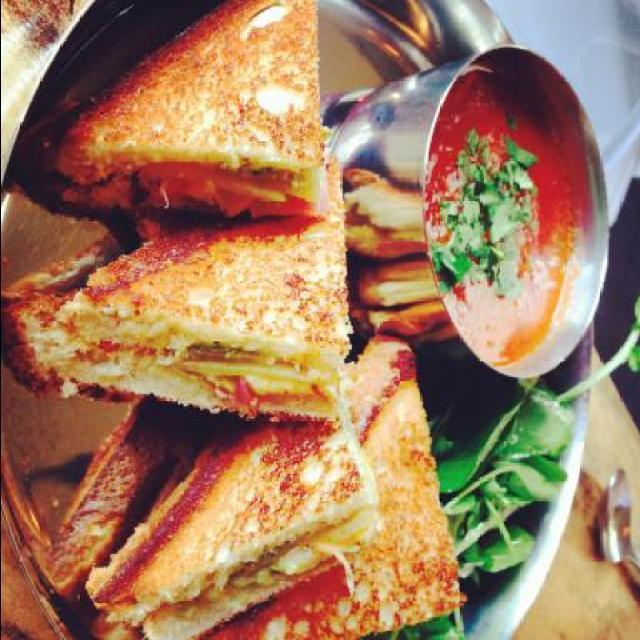Sandwich: (82, 0, 472, 640)
